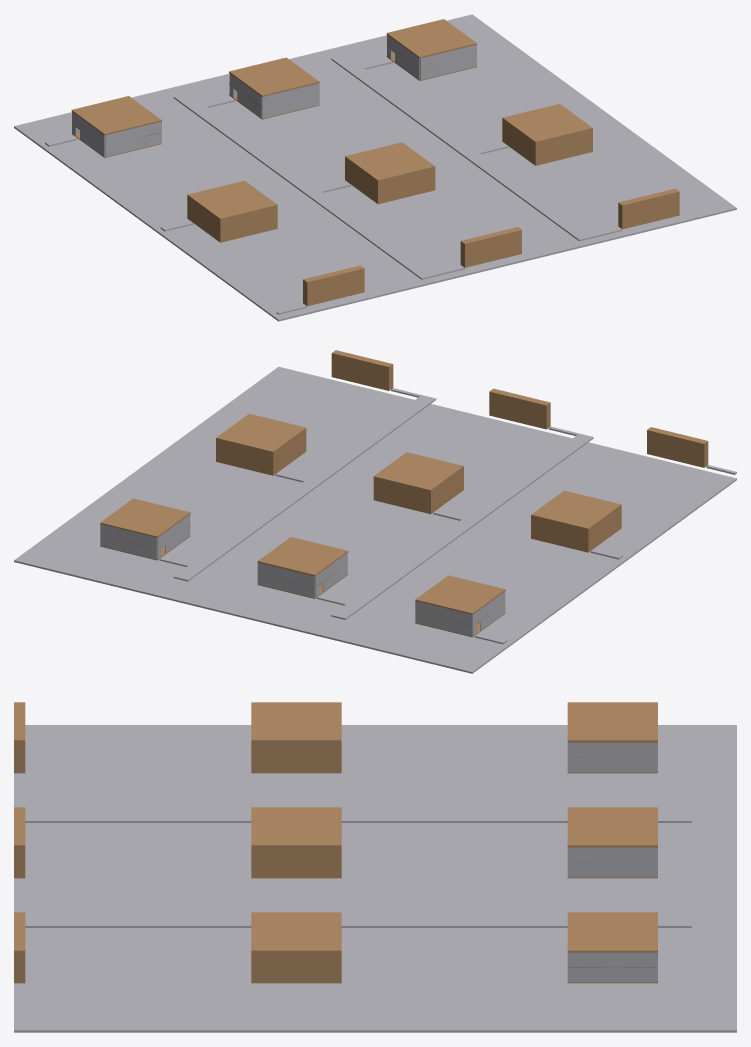
Rendered from city_c00_00.glb.
3 renders of one model, top to bottom at view 1: azimuth 30°, elevation 25°; view 2: azimuth 150°, elevation 25°; view 3: azimuth 270°, elevation 25°, orthographic. The views are drawn at different scales.
Parts seen in each view (by area): view 1: terrain_west_proxy__c00_00, building_010__c00_00, building_011__c00_00, building_012__c00_00, road_west_1__c00_00, road_west_0__c00_00, building_000_flat_roof_proxy__c00_00, building_001_flat_roof_proxy__c00_00, building_002_flat_roof_proxy__c00_00, building_021__c00_00, building_020__c00_00, building_022__c00_00 (+6 smaller); view 2: terrain_west_proxy__c00_00, building_010__c00_00, building_011__c00_00, building_012__c00_00, road_west_0__c00_00, road_west_1__c00_00, building_002_flat_roof_proxy__c00_00, building_001_flat_roof_proxy__c00_00, building_000_flat_roof_proxy__c00_00, building_020__c00_00, building_021__c00_00, building_022__c00_00 (+6 smaller); view 3: terrain_west_proxy__c00_00, building_010__c00_00, building_011__c00_00, building_012__c00_00, road_west_0__c00_00, road_west_1__c00_00, building_000_flat_roof_proxy__c00_00, building_001_flat_roof_proxy__c00_00, building_002_flat_roof_proxy__c00_00, building_001_west_wall__c00_00, building_002_west_wall__c00_00, building_000_west_wall__c00_00 (+3 smaller).
Boxes of the visible parts, x1,y1,x2,y2 form: terrain_west_proxy__c00_00: [14, 14, 736, 321]; building_010__c00_00: [502, 103, 592, 165]; building_011__c00_00: [345, 142, 435, 204]; building_012__c00_00: [187, 180, 277, 242]; road_west_1__c00_00: [173, 93, 436, 279]; road_west_0__c00_00: [331, 55, 593, 241]; building_000_flat_roof_proxy__c00_00: [386, 19, 476, 58]; building_001_flat_roof_proxy__c00_00: [229, 57, 319, 96]; building_002_flat_roof_proxy__c00_00: [71, 96, 161, 135]; building_021__c00_00: [460, 227, 521, 267]; building_020__c00_00: [618, 188, 679, 229]; building_022__c00_00: [303, 265, 364, 306]; terrain_west_proxy__c00_00: [14, 366, 736, 673]; building_010__c00_00: [216, 413, 306, 475]; building_011__c00_00: [373, 452, 463, 514]; building_012__c00_00: [531, 490, 621, 552]; road_west_0__c00_00: [173, 395, 436, 581]; road_west_1__c00_00: [331, 433, 593, 619]; building_002_flat_roof_proxy__c00_00: [415, 575, 505, 614]; building_001_flat_roof_proxy__c00_00: [257, 537, 348, 576]; building_000_flat_roof_proxy__c00_00: [100, 498, 190, 537]; building_020__c00_00: [331, 350, 393, 390]; building_021__c00_00: [489, 388, 550, 429]; building_022__c00_00: [647, 427, 708, 467]; terrain_west_proxy__c00_00: [14, 725, 736, 1032]; building_010__c00_00: [251, 912, 341, 983]; building_011__c00_00: [251, 807, 341, 878]; building_012__c00_00: [251, 702, 341, 773]; road_west_0__c00_00: [25, 916, 691, 927]; road_west_1__c00_00: [25, 811, 691, 822]; building_000_flat_roof_proxy__c00_00: [567, 912, 657, 952]; building_001_flat_roof_proxy__c00_00: [567, 807, 657, 847]; building_002_flat_roof_proxy__c00_00: [567, 702, 657, 742]; building_001_west_wall__c00_00: [567, 847, 657, 877]; building_002_west_wall__c00_00: [567, 742, 657, 772]; building_000_west_wall__c00_00: [567, 952, 657, 982].
Size of the model in its own units: 128 by 8.6 by 128.
